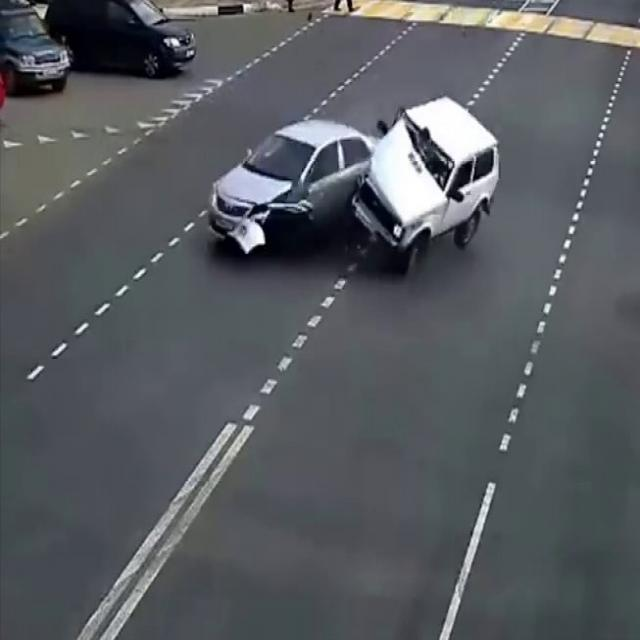accident: (200, 95, 511, 288)
